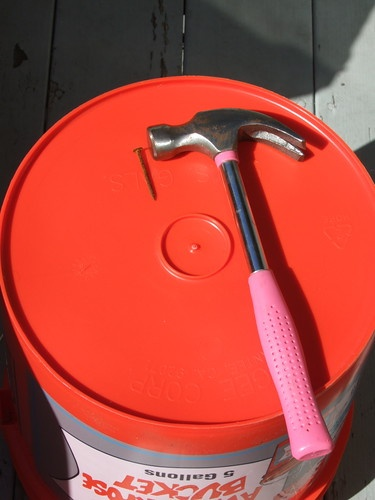hammer: (141, 106, 341, 460)
